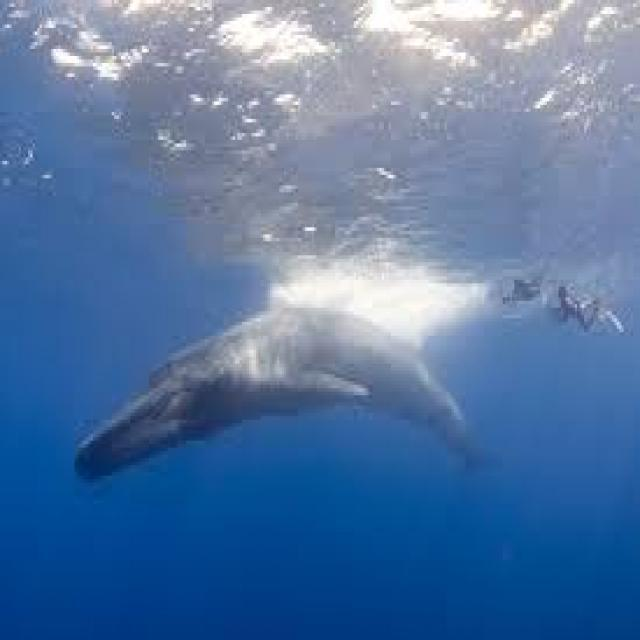blue_whale: (51, 290, 484, 577)
